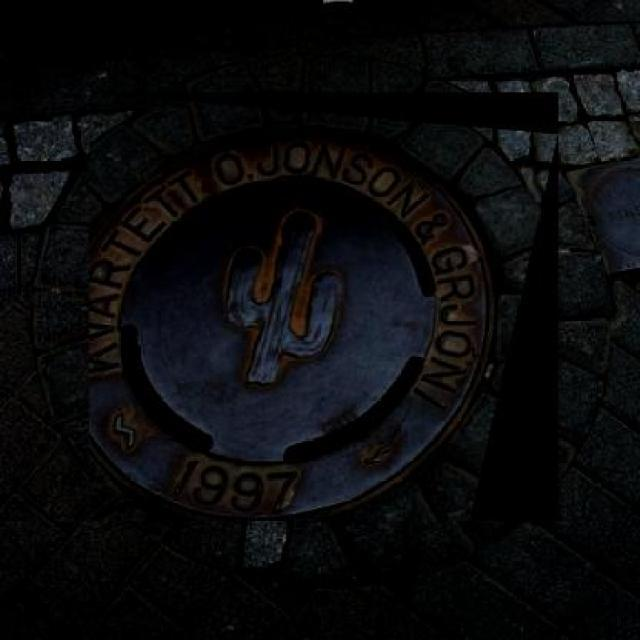Manhole: (90, 92, 558, 520)
